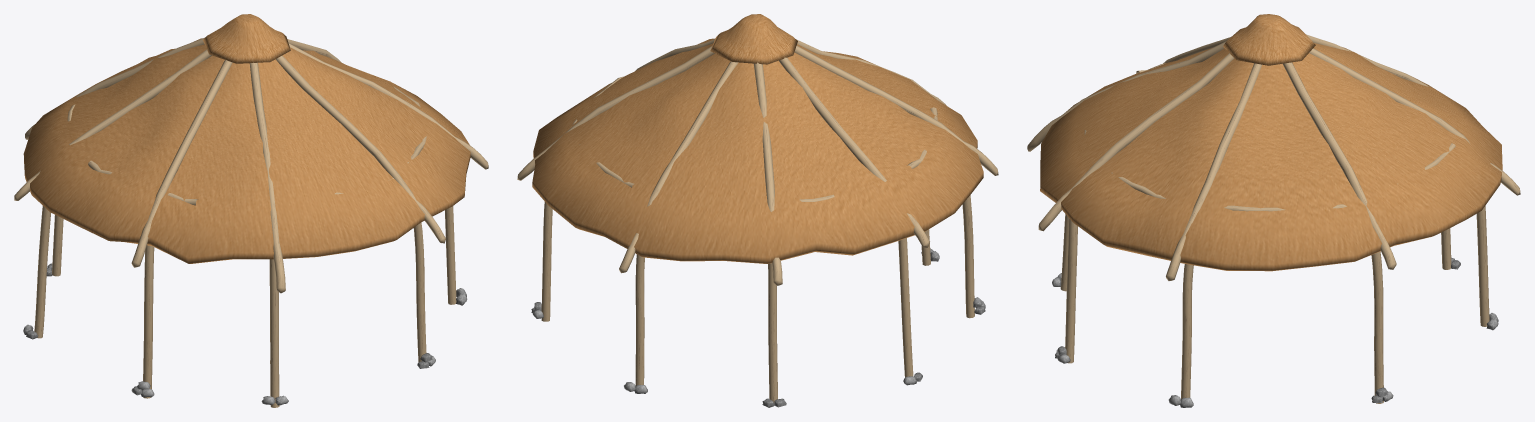
File: Market tent 1.fbx
3 views of the same model, side by side, from view 1: azimuth 30°, elevation 25°; view 2: azimuth 150°, elevation 25°; view 3: azimuth 270°, elevation 25° (orthographic). The views are drawn at different scales.
Visible parts, largest first — view 1: Market tent 1; view 2: Market tent 1; view 3: Market tent 1.
Boxes of the visible parts, x1=… form: Market tent 1: x1=14, y1=14, x2=488, y2=407; Market tent 1: x1=517, y1=14, x2=998, y2=407; Market tent 1: x1=1027, y1=14, x2=1520, y2=407.
Bounding box in the file's own units: 4.46 × 3.22 × 4.65.
